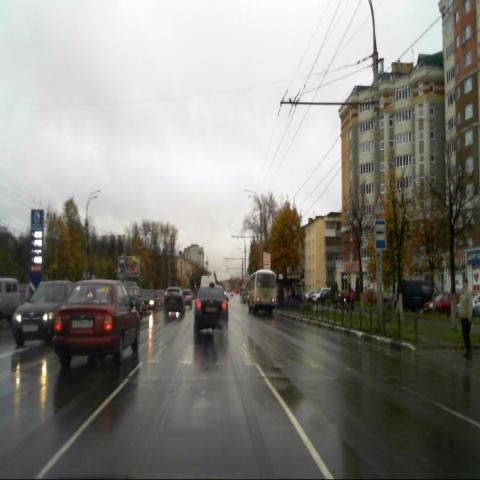1_23: (372, 192, 386, 217)
